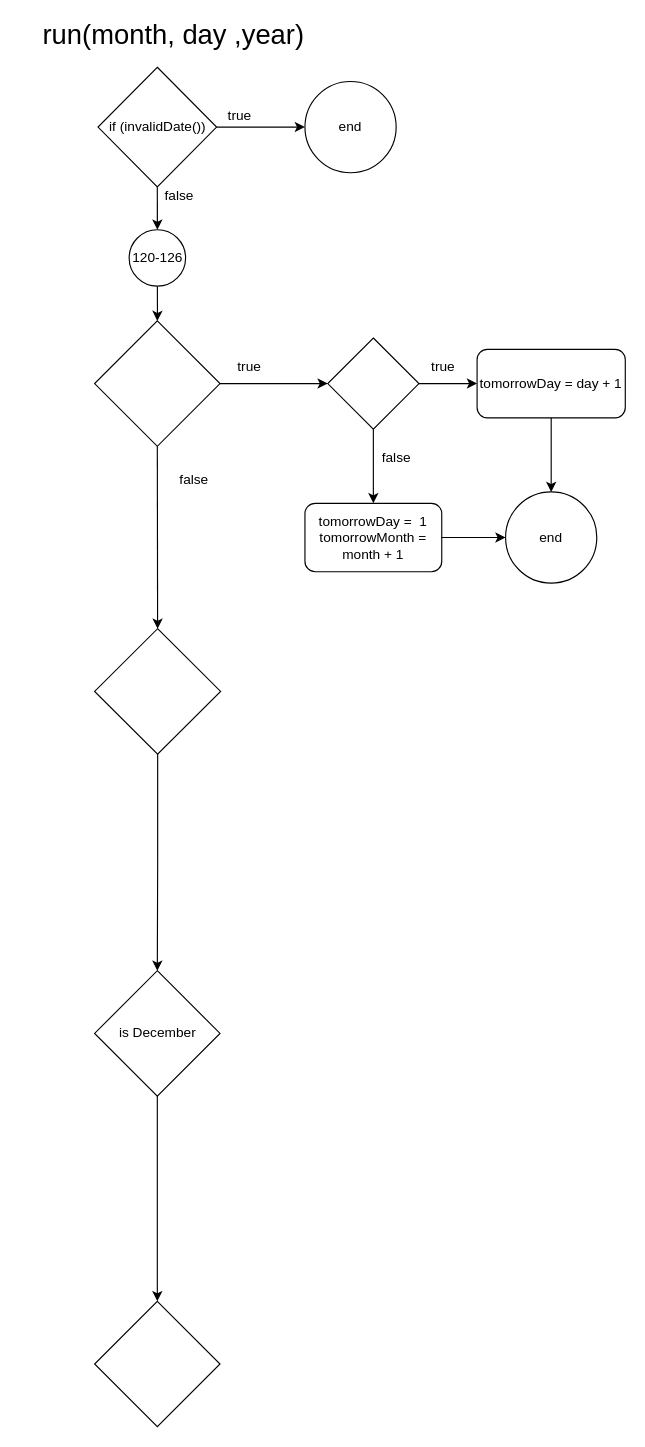
This 645x1447 diagram has some shape labels left out. The shapes that lost their labels are listed below. From the top down, each one's centre as x and y in pixels, then its label:
At point 156,383: "isThirtyOneDay Month(month)".
At point 373,383: "if day < 31".
At point 157,691: "isThirtyDayMonth".
At point 156,1363: "is February".
